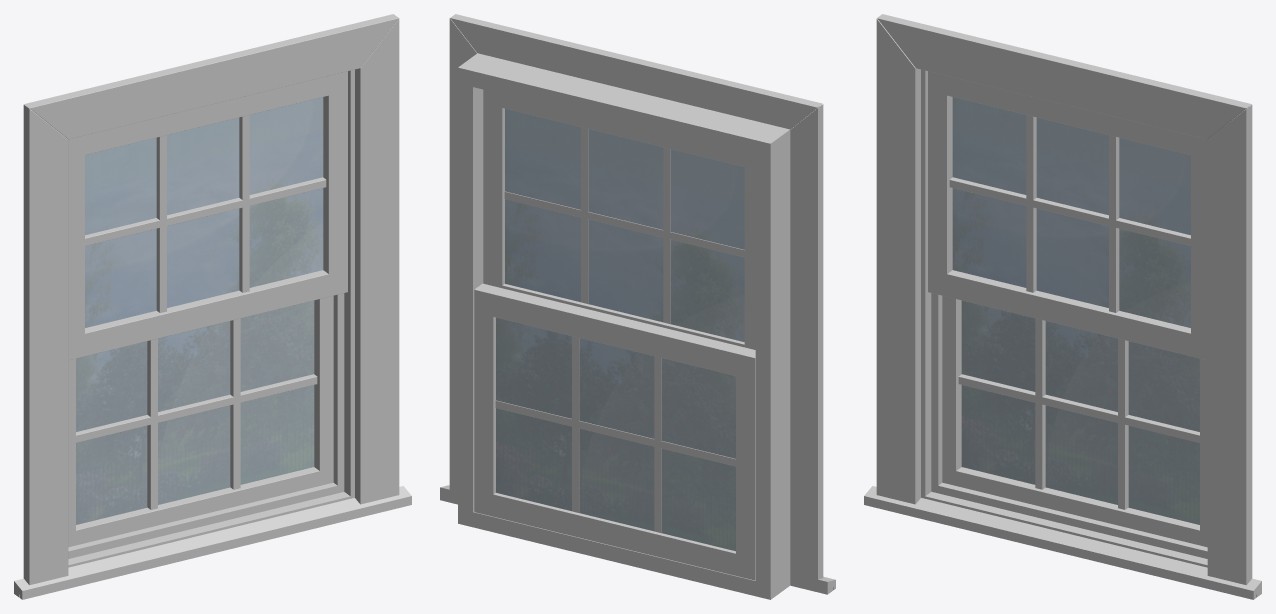
3 renders of one model, left to right at view 1: azimuth 30°, elevation 25°; view 2: azimuth 150°, elevation 25°; view 3: azimuth 330°, elevation 25°, orthographic.
Visible parts, largest first — view 1: glass001, glass, trim_left, trim_right, trim_top, sill, window_bottom001, window_right001, window_bottom, window_top001, box_right, window_left001 (+10 smaller); view 2: glass, glass001, box_left, trim_left, trim_top, box_top, box_right, window_top, window_bottom, sill, window_right, trim_right (+11 smaller); view 3: glass001, glass, trim_right, trim_left, trim_top, sill, window_bottom001, window_left001, window_bottom, window_top001, box_left, window_right001 (+10 smaller).
Part boxes in pixels (x1,y1,x2,y2): glass001: [85, 97, 323, 327]; glass: [76, 300, 314, 524]; trim_left: [23, 105, 68, 585]; trim_right: [355, 18, 399, 504]; trim_top: [24, 14, 398, 139]; sill: [14, 486, 411, 599]; window_bottom001: [81, 270, 328, 357]; window_right001: [323, 71, 347, 296]; window_bottom: [71, 467, 324, 546]; window_top001: [80, 76, 328, 155]; box_right: [344, 69, 354, 496]; window_left001: [67, 135, 84, 360]; glass: [496, 317, 735, 551]; glass001: [505, 108, 744, 341]; box_left: [755, 127, 790, 599]; trim_left: [790, 104, 823, 579]; trim_top: [450, 14, 822, 129]; box_top: [469, 56, 778, 156]; box_right: [458, 53, 487, 527]; window_top: [489, 288, 748, 376]; window_bottom: [489, 493, 740, 576]; sill: [440, 485, 835, 596]; window_right: [474, 283, 501, 516]; trim_right: [449, 18, 477, 491]; glass001: [952, 97, 1190, 327]; glass: [961, 300, 1199, 524]; trim_right: [1207, 105, 1252, 585]; trim_left: [876, 18, 920, 504]; trim_top: [877, 14, 1251, 139]; sill: [864, 486, 1261, 599]; window_bottom001: [942, 270, 1190, 356]; window_left001: [928, 71, 952, 296]; window_bottom: [951, 467, 1204, 546]; window_top001: [942, 75, 1193, 154]; box_left: [921, 69, 931, 496]; window_right001: [1191, 135, 1208, 360].
Size of the model in its own units: 40 by 47.81 by 5.
